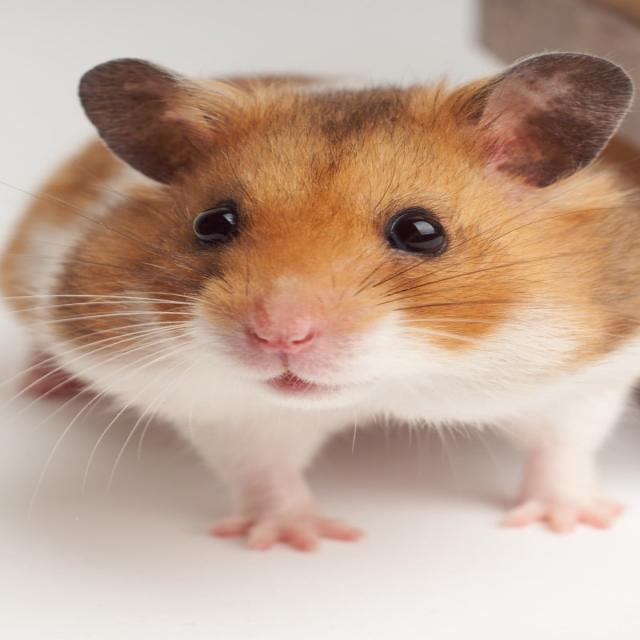hamster: (0, 50, 640, 549)
